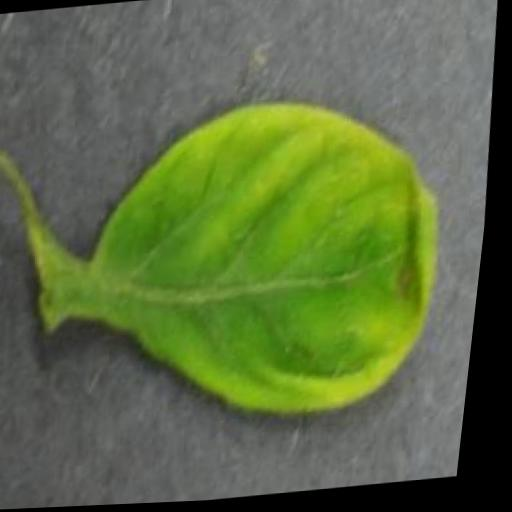Yellow Leaf Curl Virus: (77, 94, 464, 438)
